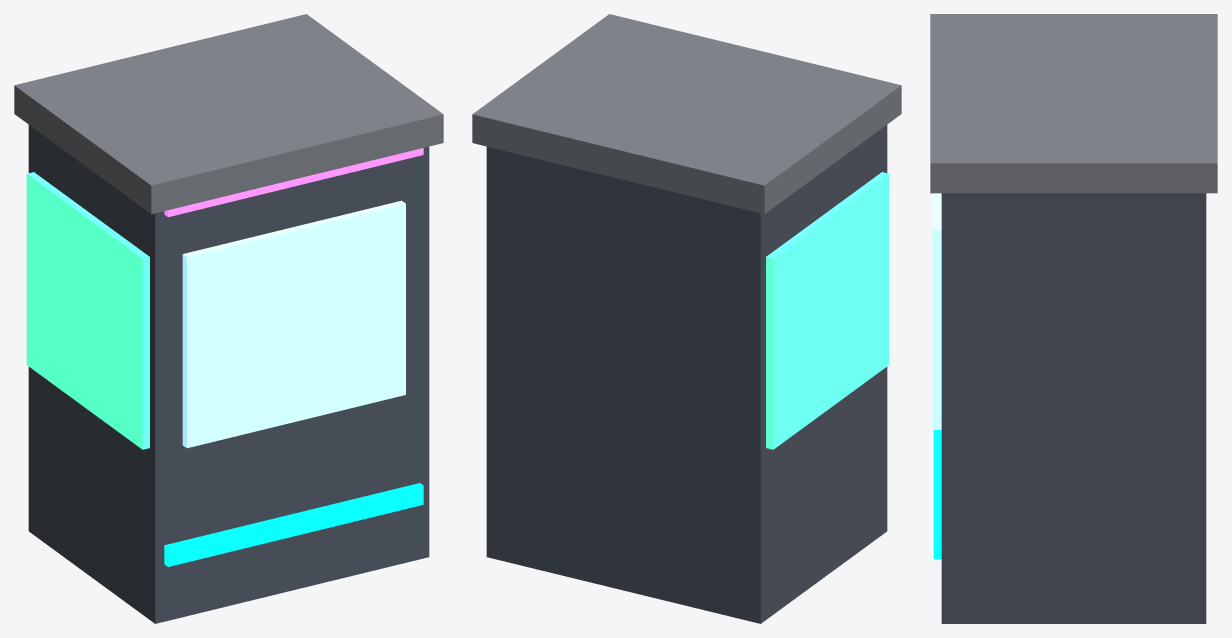
File: PROP_NewsKiosk_Cyber.glb
The picture shows the model from 3 angles, left to right: view 1: azimuth 30°, elevation 25°; view 2: azimuth 150°, elevation 25°; view 3: azimuth 270°, elevation 25°; orthographic projection. The views are drawn at different scales.
Visible parts, largest first — view 1: PROP_NewsKiosk_Cyber; view 2: PROP_NewsKiosk_Cyber; view 3: PROP_NewsKiosk_Cyber.
Part boxes in pixels (x1,y1,x2,y2): PROP_NewsKiosk_Cyber: [14, 14, 443, 623]; PROP_NewsKiosk_Cyber: [472, 14, 901, 623]; PROP_NewsKiosk_Cyber: [930, 14, 1217, 623].
Bounding box in the file's own units: 1.6 × 2.33 × 1.3.
